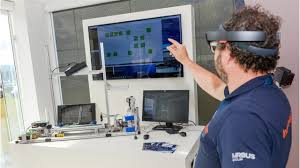hololens: (204, 23, 281, 61)
